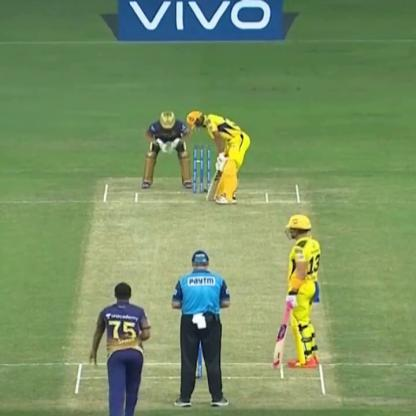ball: (84, 355, 106, 372)
pitch: (76, 171, 330, 408)
